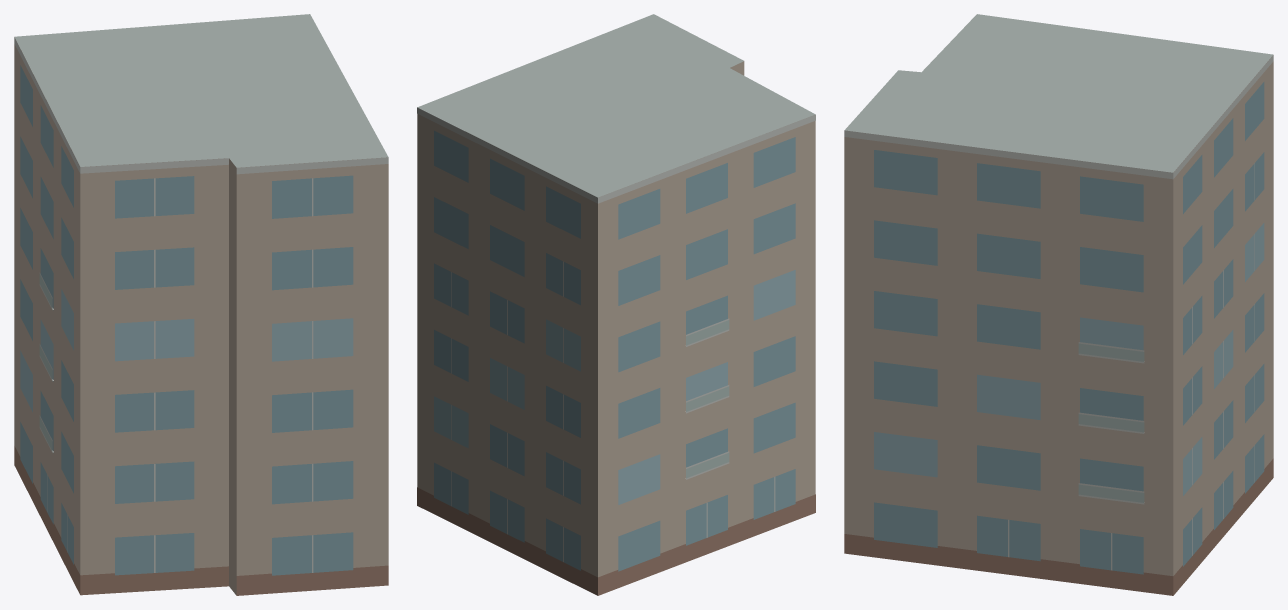
The model's file is survey-upis-32885793.glb.
The picture shows the model from 3 angles, left to right: view 1: azimuth 30°, elevation 25°; view 2: azimuth 150°, elevation 25°; view 3: azimuth 270°, elevation 25°; orthographic projection. The views are drawn at different scales.
Visible parts, largest first — view 1: survey-upis-32885793.tmp; view 2: survey-upis-32885793.tmp; view 3: survey-upis-32885793.tmp.
Part boxes in pixels (x1,y1,x2,y2): survey-upis-32885793.tmp: [14, 14, 388, 595]; survey-upis-32885793.tmp: [417, 14, 815, 595]; survey-upis-32885793.tmp: [844, 14, 1273, 595].
Size of the model in its own units: 12.68 by 15.75 by 14.49.
